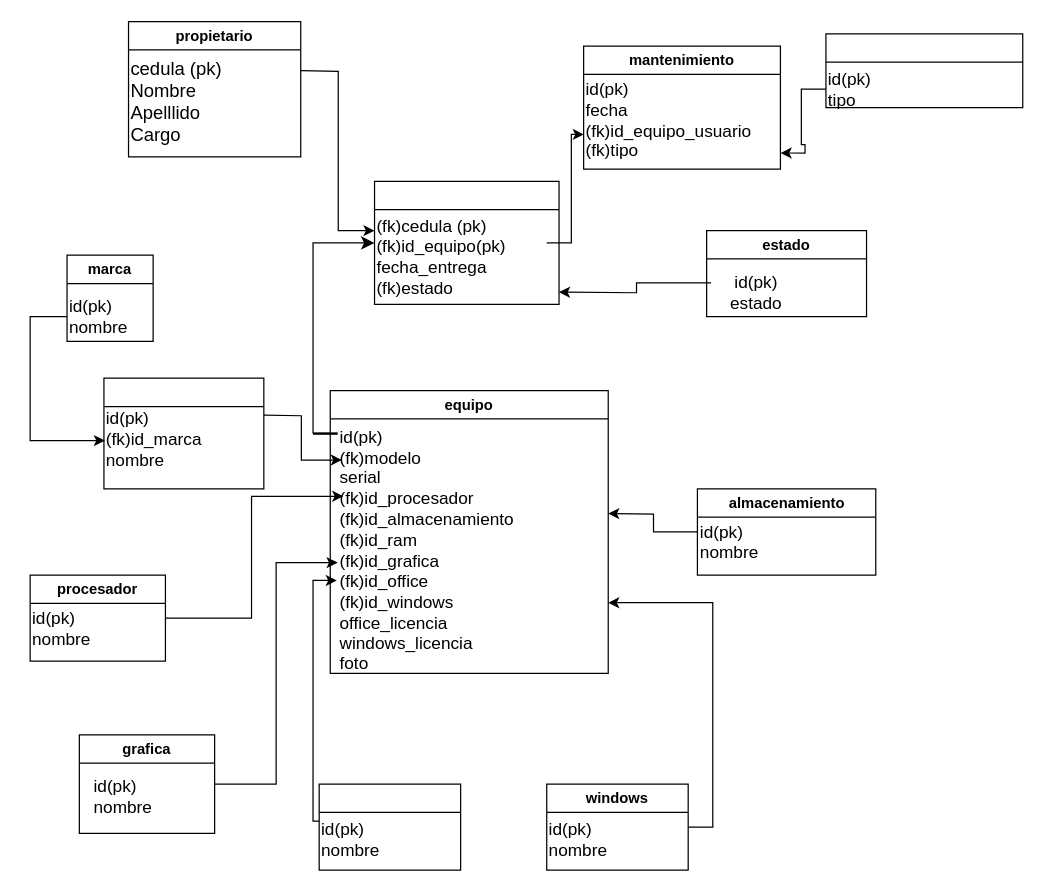
Some shapes in this 1044 by 892 pixel diagram are drawn without their labels. Each missing label, with the box of its shape:
equipo_usuario: (373, 180, 559, 304)
modelo: (103, 377, 264, 489)
office: (318, 783, 461, 870)
tipo_mantenimiento: (825, 33, 1023, 108)
